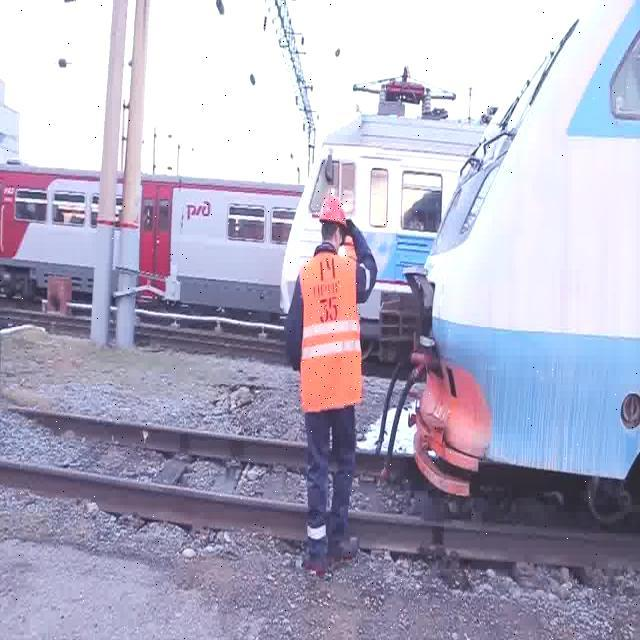Helmet: (318, 194, 346, 226)
Person: (283, 194, 378, 576)
Safety Boot: (298, 528, 334, 570), (332, 533, 366, 557)
Safety Vest: (296, 238, 363, 413)
